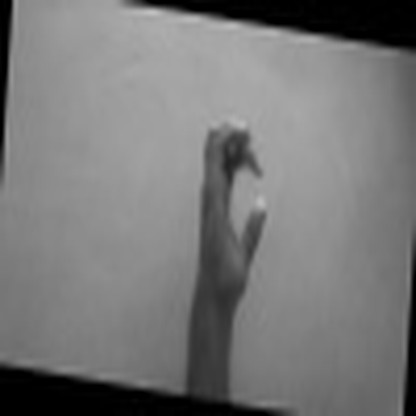c: (188, 105, 274, 308)
